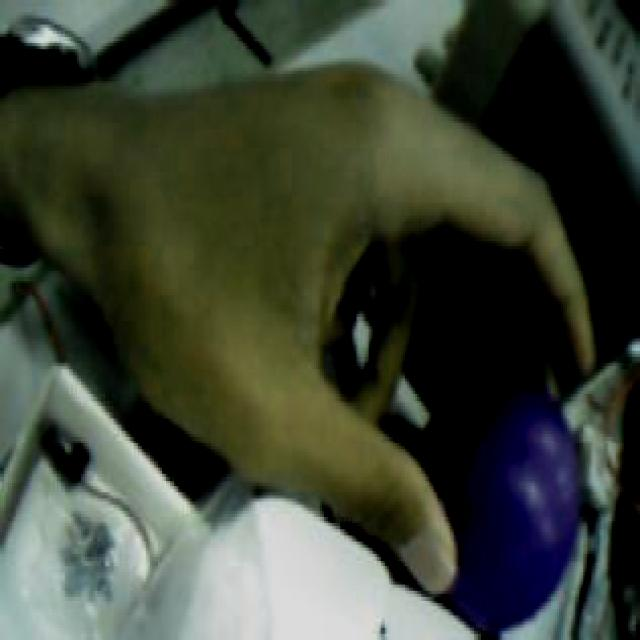BallPurple: (422, 382, 582, 632)
